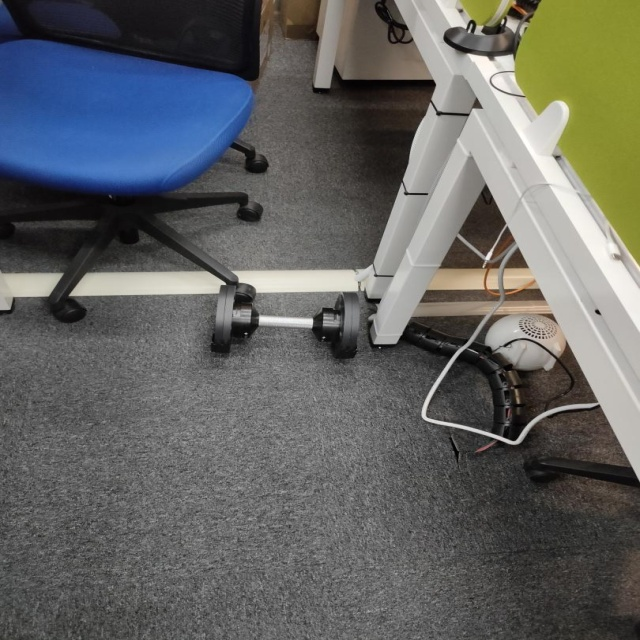03-6kg: (210, 287, 360, 360)
